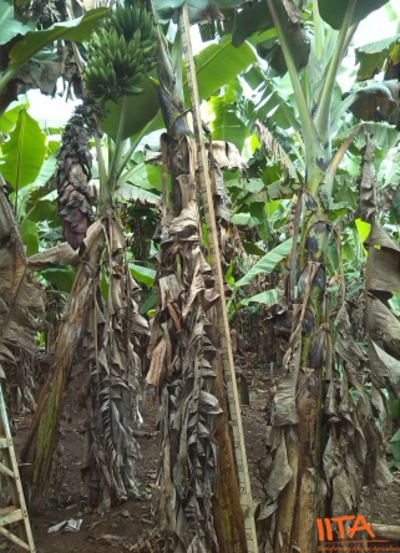bananaHand: (80, 3, 161, 100)
